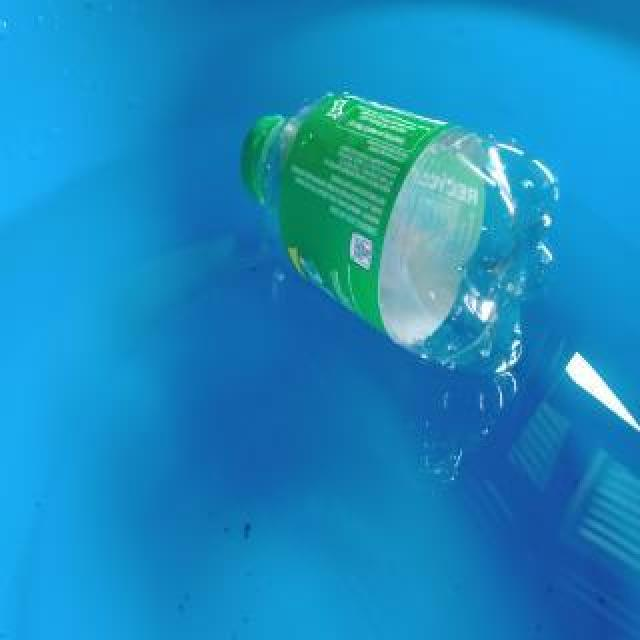bottle: (239, 85, 561, 381)
